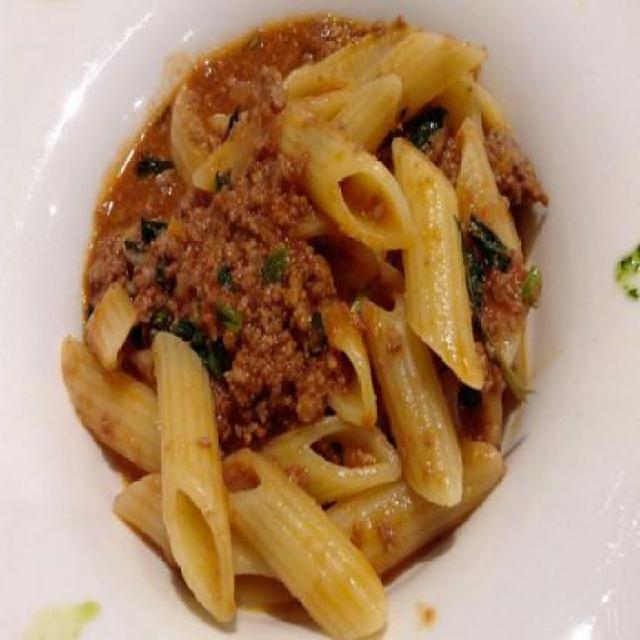Pasta al ragu: (96, 49, 546, 603)
